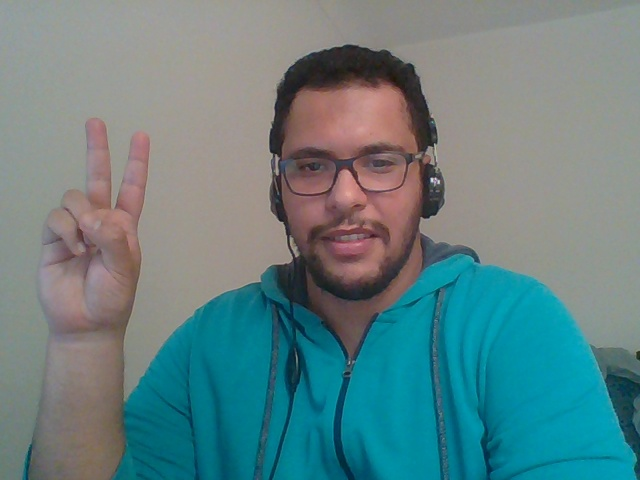vectory: (19, 104, 160, 351)
